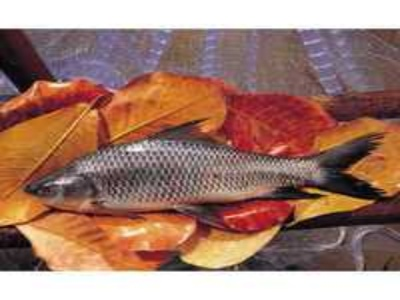rohu: (19, 129, 395, 229)
